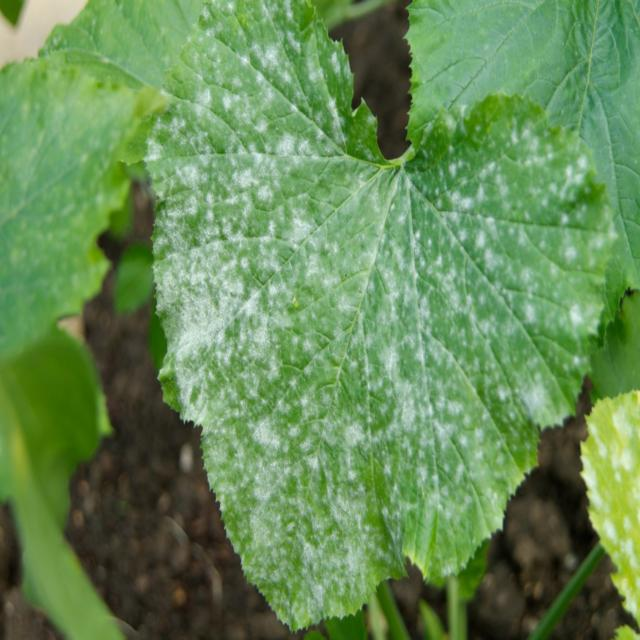Powdery Mildew: (142, 0, 618, 633)
